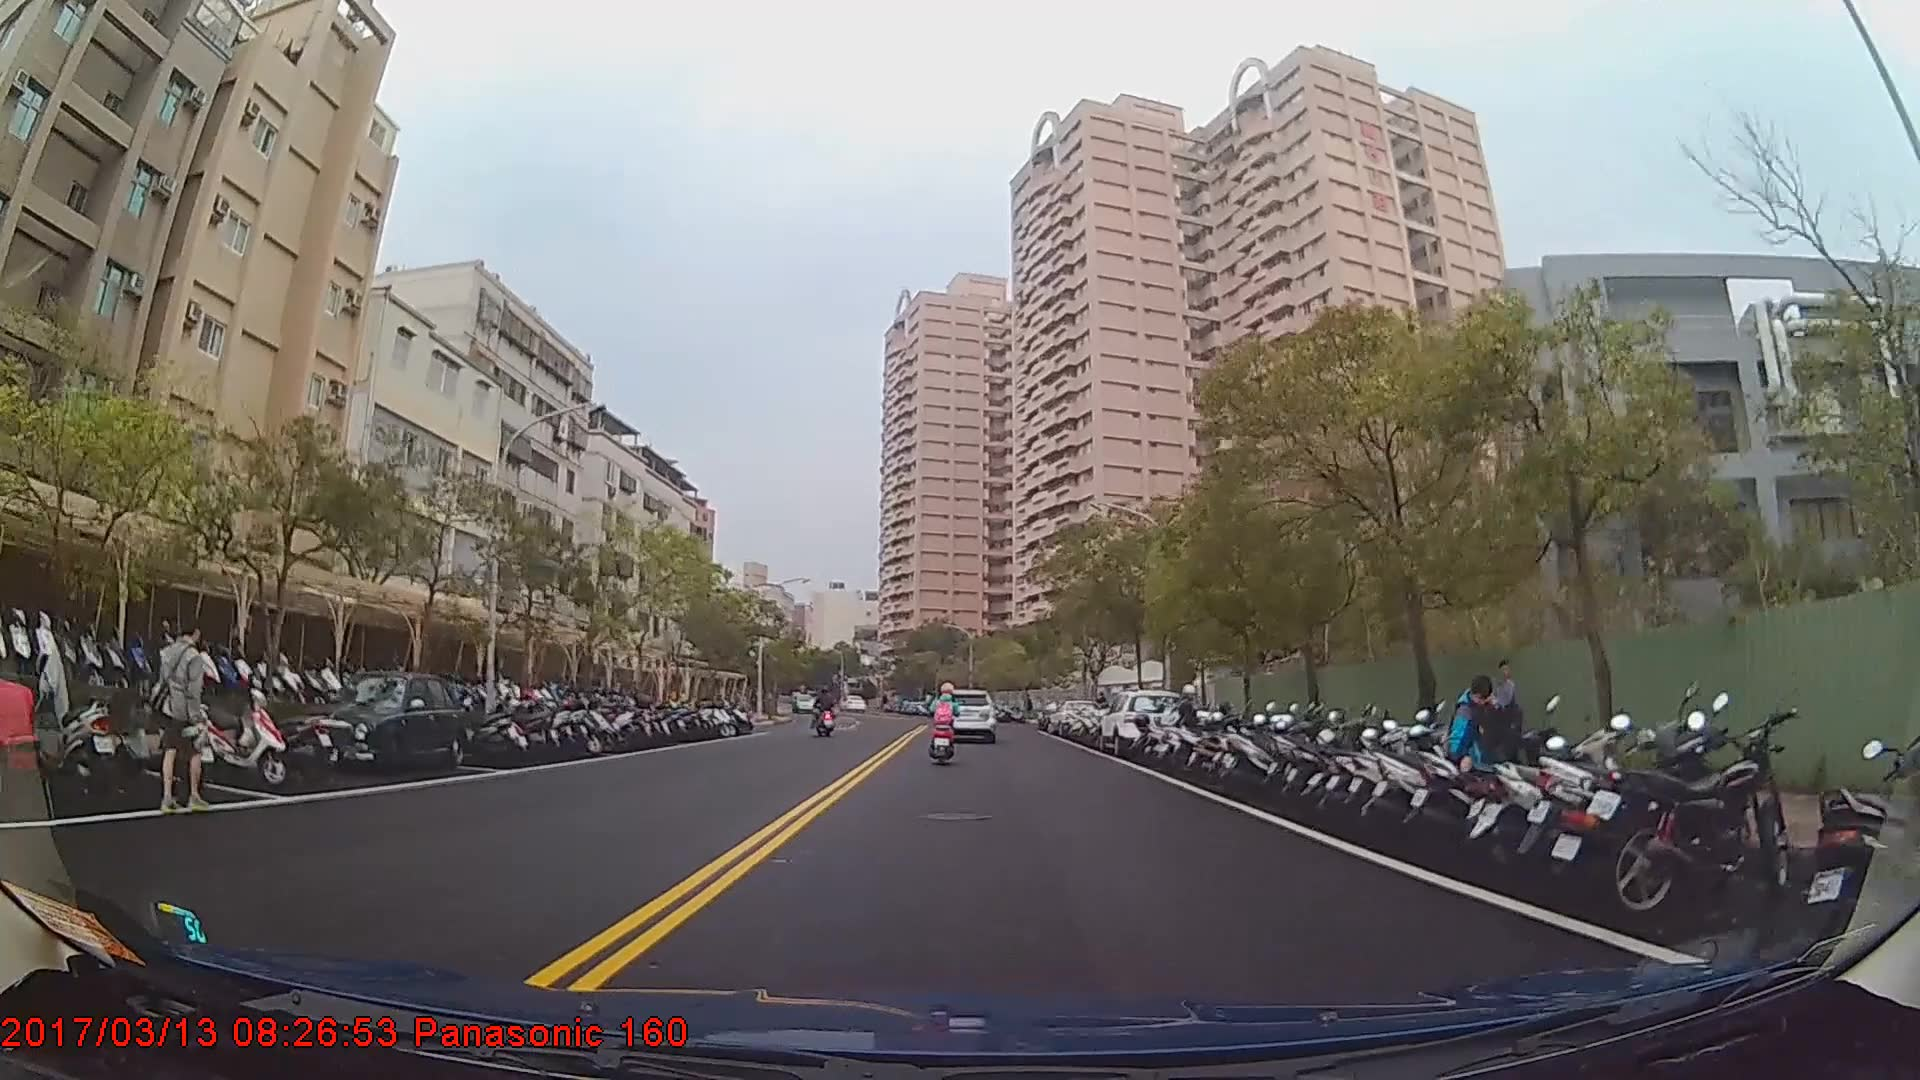pedestrian: (147, 617, 225, 812), (1451, 671, 1523, 839), (1478, 657, 1522, 768)
rider: (927, 676, 963, 763), (811, 685, 838, 738)
vehicle: (307, 667, 469, 776), (1097, 685, 1189, 754), (938, 681, 996, 734)
